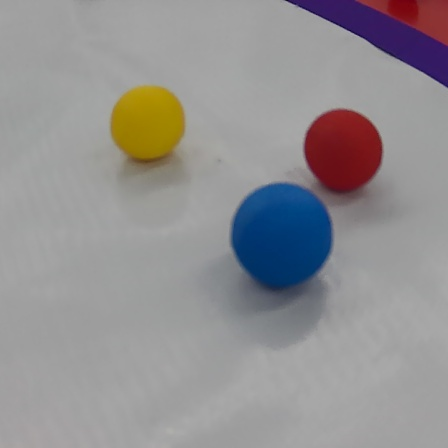blue: (224, 180, 337, 295)
red: (302, 106, 386, 194)
yellow: (106, 81, 191, 169)
